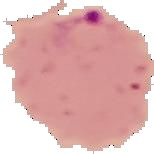parasitized: (50, 11, 122, 55)
